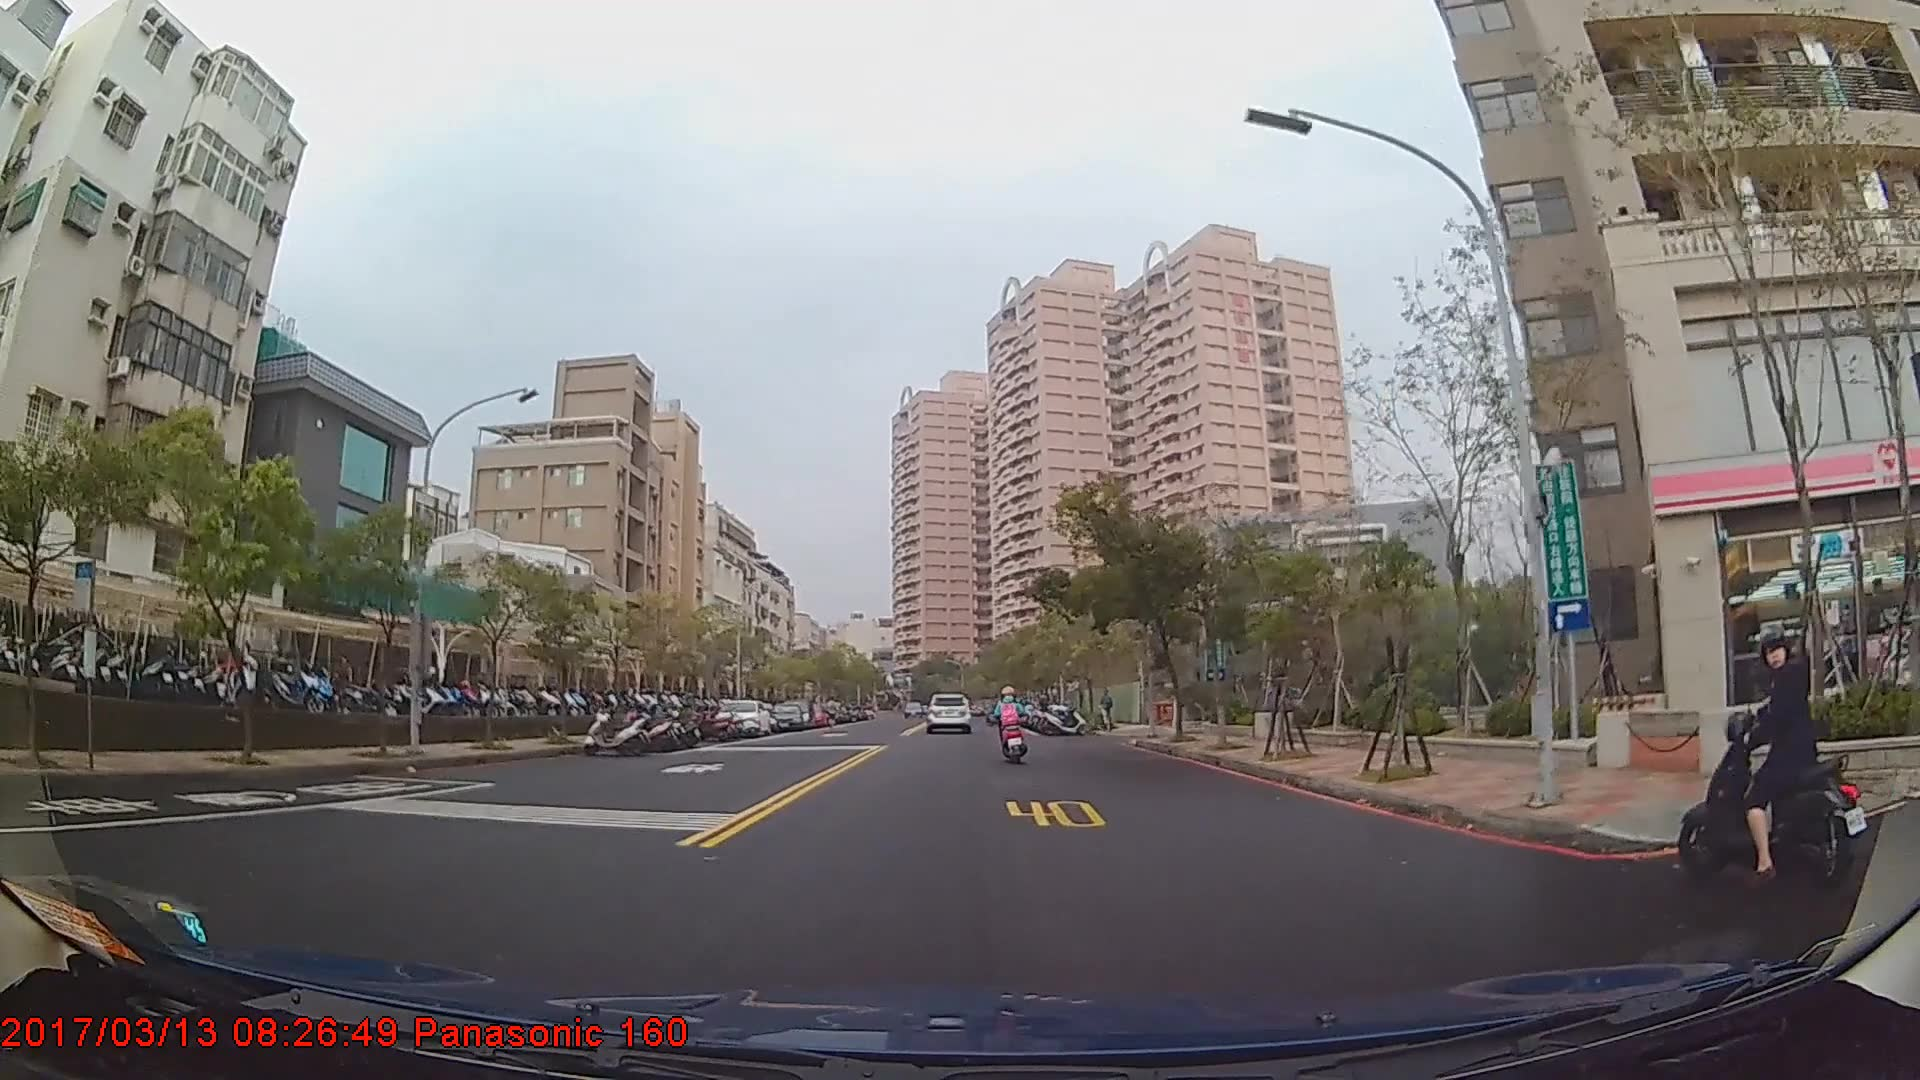rider: (1673, 624, 1881, 880), (994, 686, 1029, 763)
vehicle: (711, 698, 772, 738), (923, 688, 974, 730), (768, 700, 804, 732)
